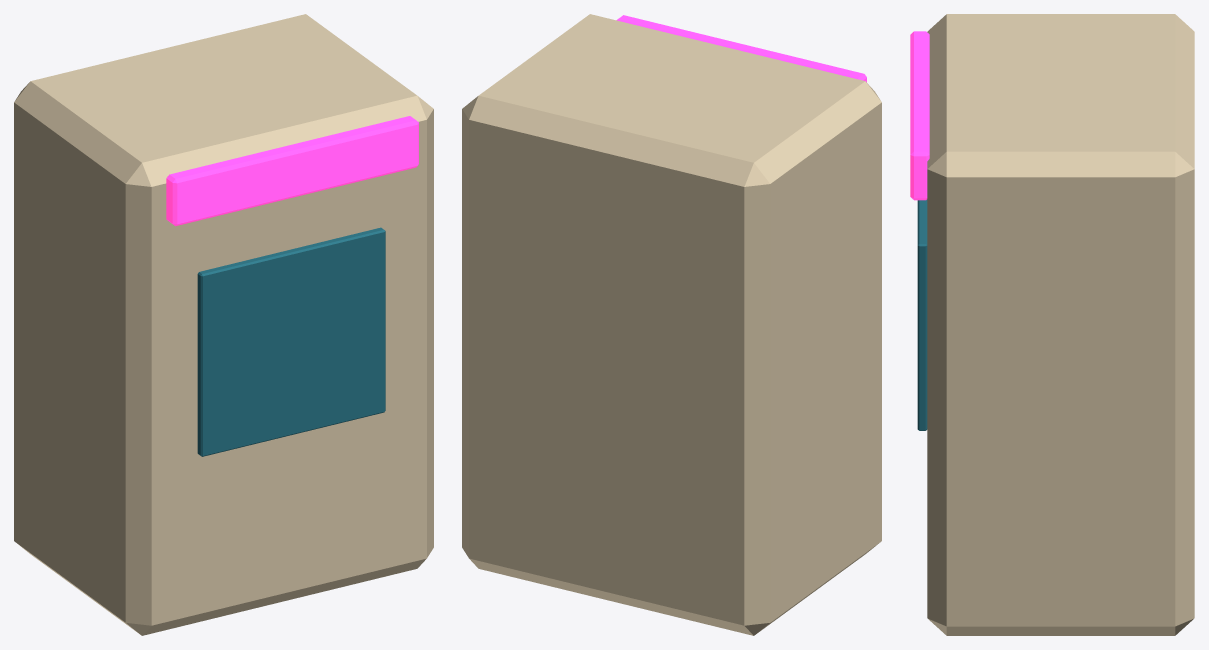
The model's file is street_026_seed11.glb.
3 views of the same model, side by side, from view 1: azimuth 30°, elevation 25°; view 2: azimuth 150°, elevation 25°; view 3: azimuth 270°, elevation 25° (orthographic). The views are drawn at different scales.
Parts seen in each view (by area): view 1: street_026_seed11; view 2: street_026_seed11; view 3: street_026_seed11.
Boxes of the visible parts, box(x1,y1,x2,y2) form: street_026_seed11: box(14, 14, 433, 635); street_026_seed11: box(462, 14, 881, 635); street_026_seed11: box(910, 14, 1194, 635).
Size of the model in its own units: 1.5 by 2.2 by 1.17.
